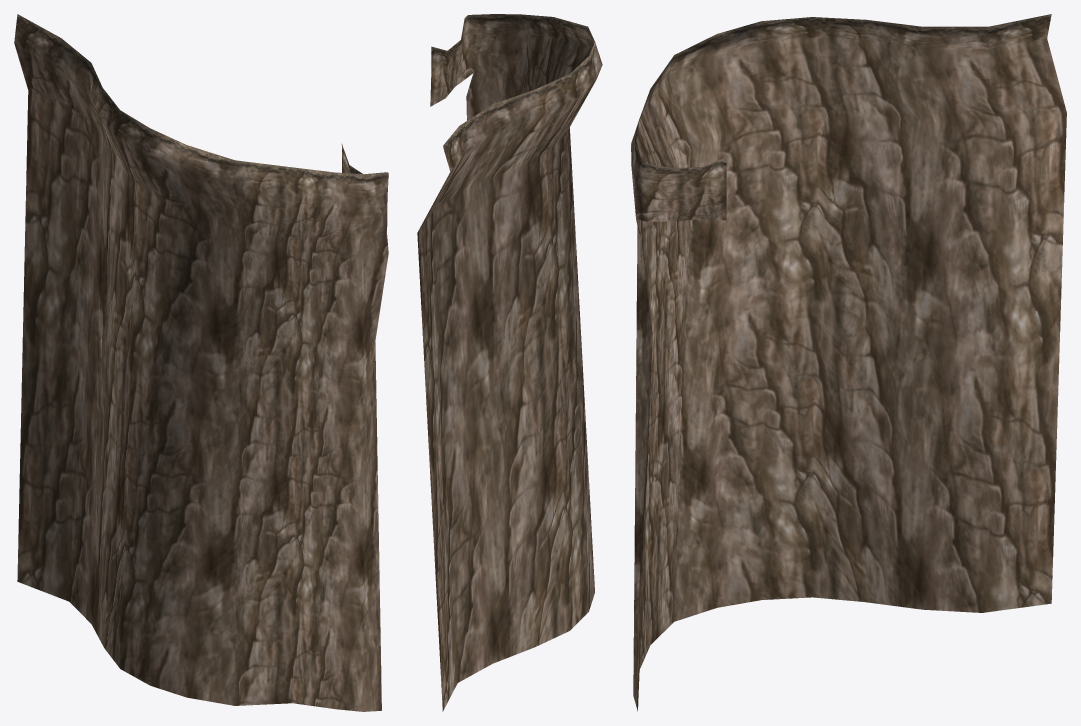
File: OVERHILL_A_01_OBJECT380.fbx
The picture shows the model from 3 angles, left to right: view 1: azimuth 30°, elevation 25°; view 2: azimuth 150°, elevation 25°; view 3: azimuth 270°, elevation 25°; orthographic projection. The views are drawn at different scales.
Parts seen in each view (by area): view 1: OVERHILL_A_01_OBJECT380; view 2: OVERHILL_A_01_OBJECT380; view 3: OVERHILL_A_01_OBJECT380.
Part boxes in pixels (left/top/right/bottom): OVERHILL_A_01_OBJECT380: left=14, top=14, right=388, bottom=711; OVERHILL_A_01_OBJECT380: left=417, top=14, right=602, bottom=711; OVERHILL_A_01_OBJECT380: left=631, top=14, right=1066, bottom=711.
Size of the model in its own units: 71926 by 210203 by 135213.
2 materials, 2 textured.
